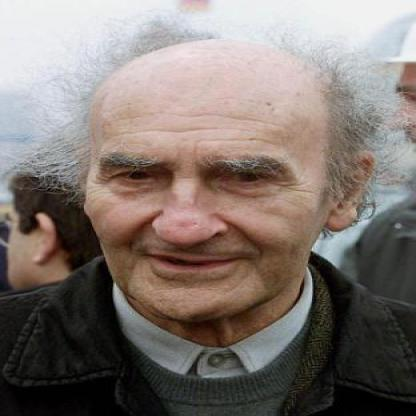face: (82, 40, 334, 326)
